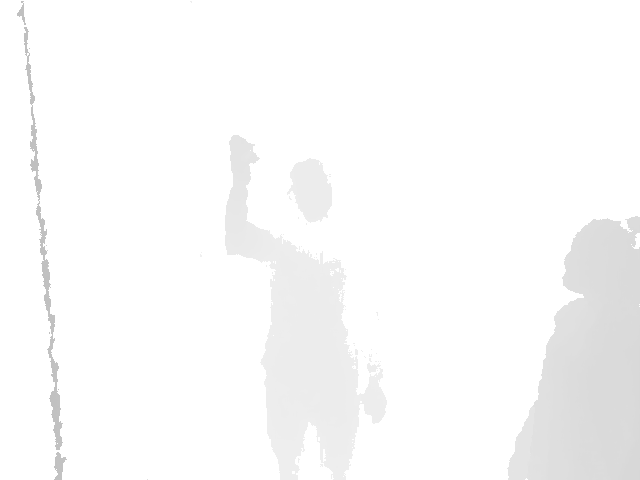hand: (228, 134, 261, 176)
head: (561, 217, 640, 297), (287, 158, 334, 223)
person: (223, 133, 389, 480), (505, 217, 640, 480)
